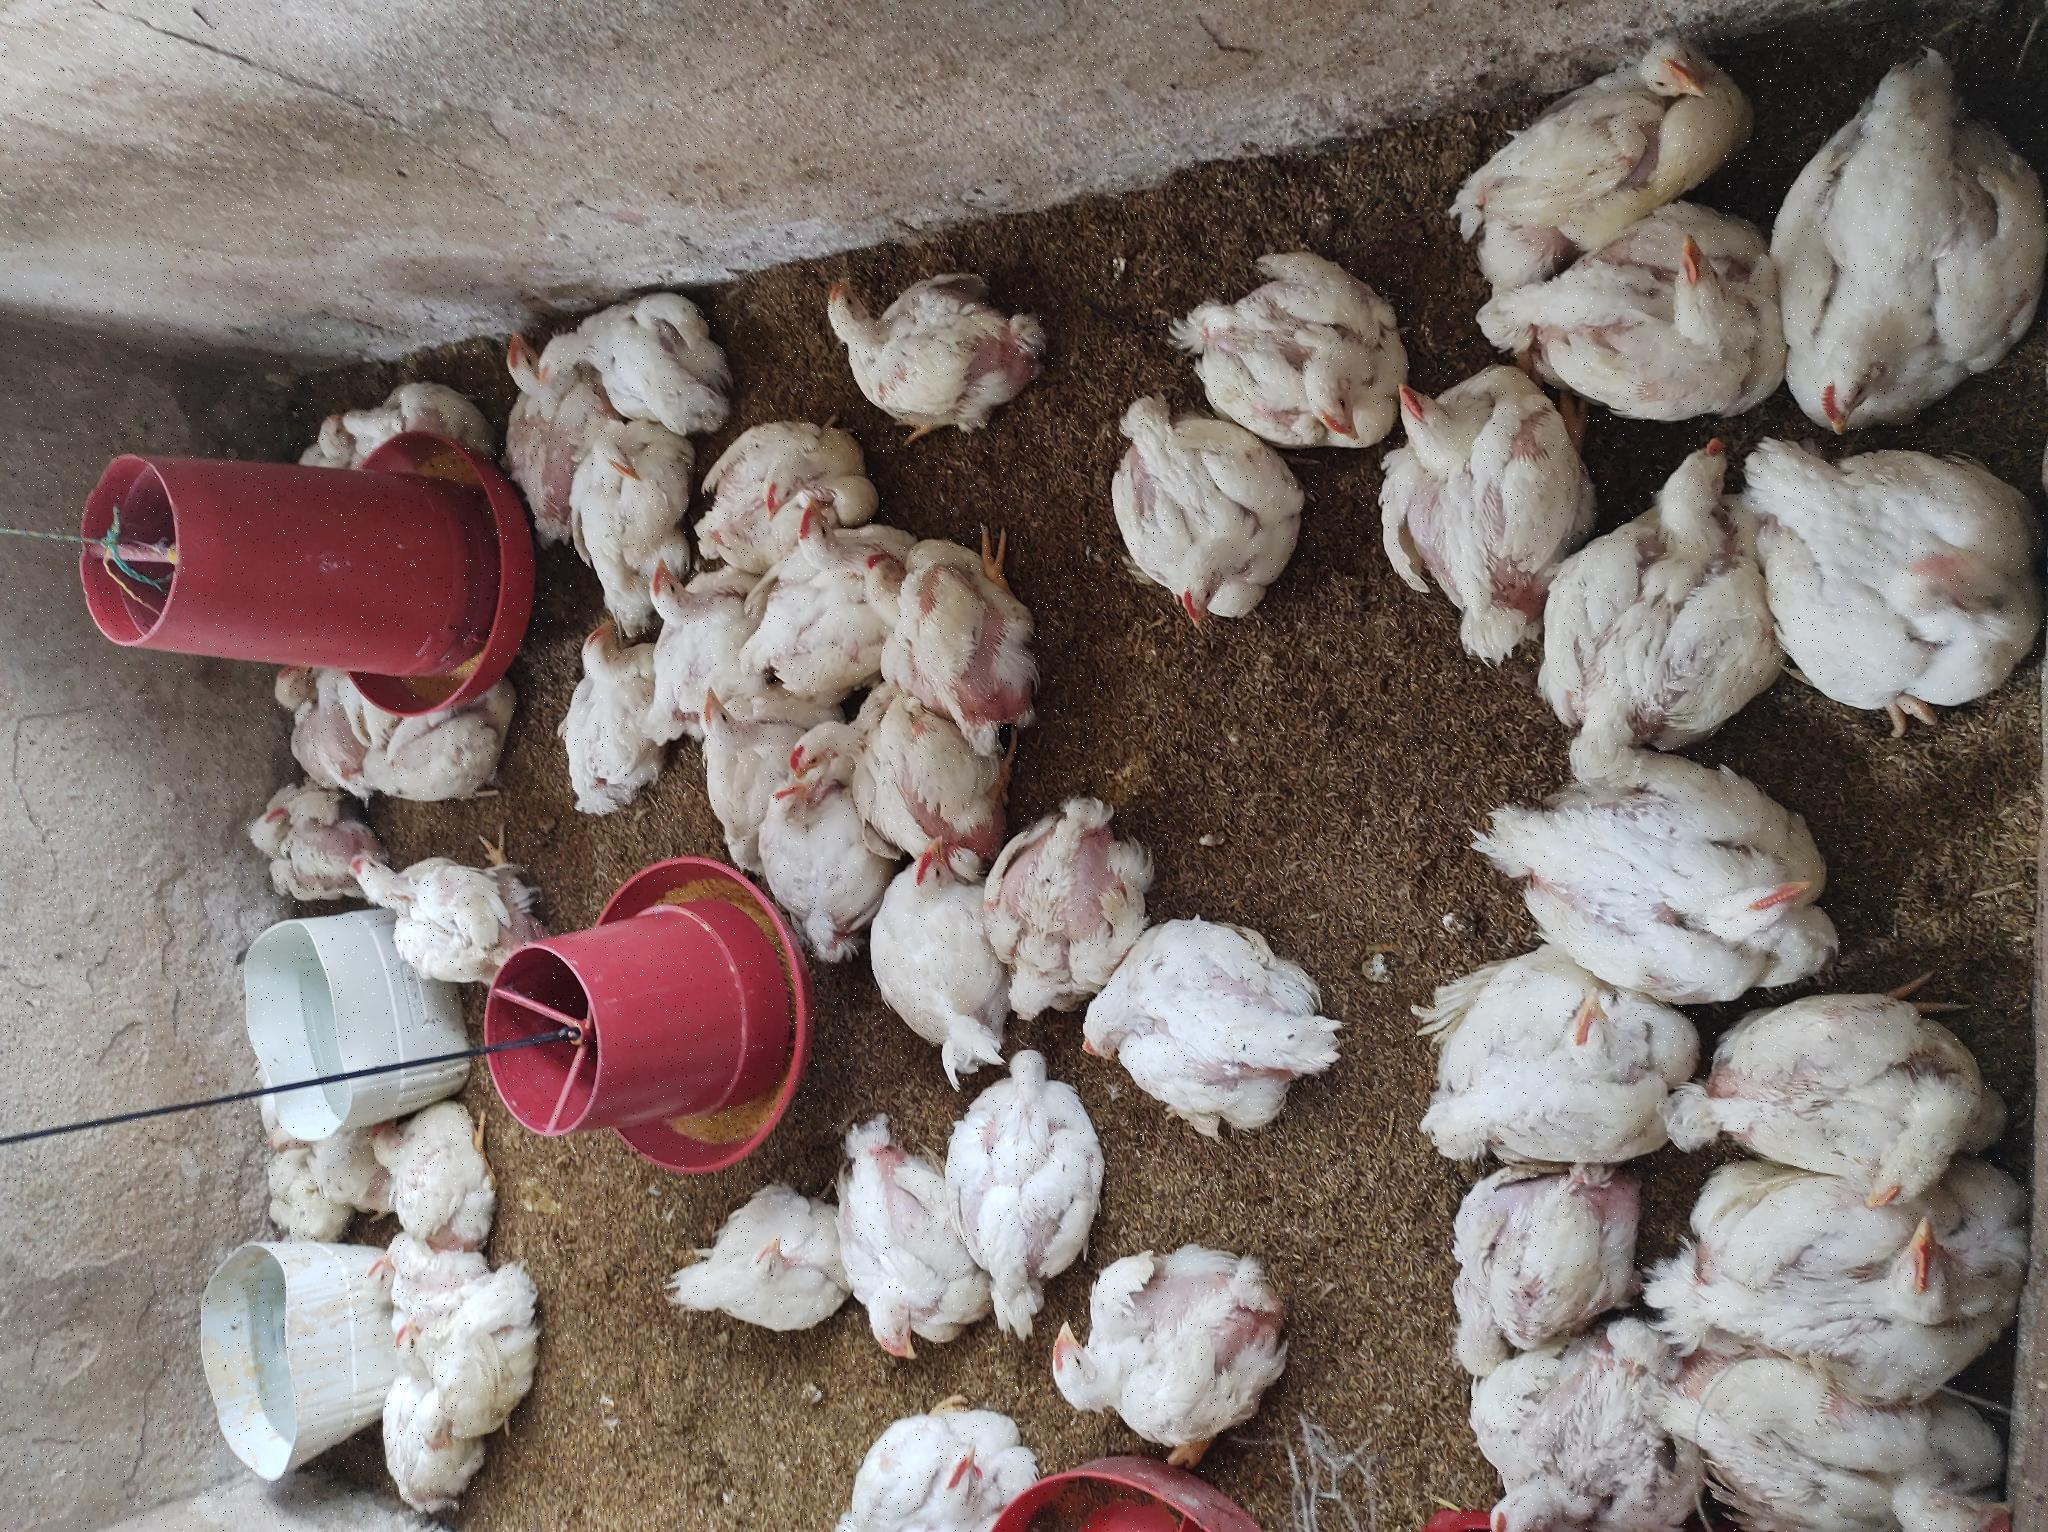Pollos: (373, 1070, 607, 1349), (1068, 1191, 1319, 1415), (84, 1048, 307, 1295), (1091, 835, 1310, 1043), (880, 1083, 1096, 1289), (923, 1369, 1166, 1532), (233, 935, 486, 1089), (528, 983, 746, 1146), (545, 348, 700, 563), (174, 1415, 425, 1532), (2, 843, 135, 1051), (169, 843, 413, 953), (840, 866, 1012, 1017), (478, 866, 692, 986), (380, 1389, 555, 1532), (735, 356, 872, 534), (1112, 525, 1244, 703), (290, 360, 439, 505), (203, 686, 344, 837), (735, 243, 894, 365), (1293, 1452, 1533, 1532), (3, 1426, 182, 1532), (71, 420, 212, 552), (890, 755, 1038, 859), (746, 550, 919, 639), (1041, 488, 1203, 570), (859, 644, 991, 732), (642, 246, 748, 351), (1002, 581, 1105, 682), (729, 684, 853, 764), (652, 748, 767, 827), (1017, 727, 1125, 805), (756, 789, 833, 879), (148, 383, 232, 446), (1055, 291, 1134, 349), (219, 349, 285, 414), (373, 257, 418, 320)
